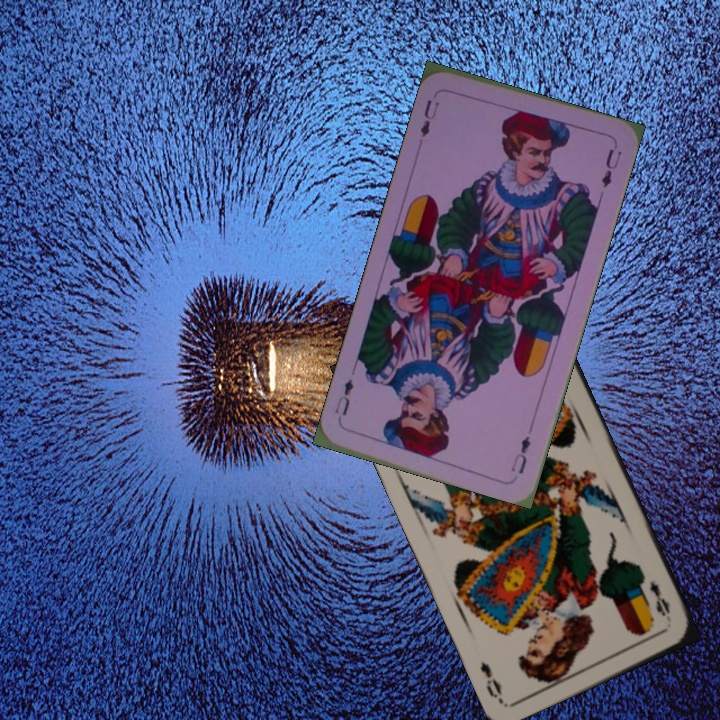EO: (645, 577, 673, 620)
EU: (506, 431, 534, 477), (416, 95, 442, 140)
